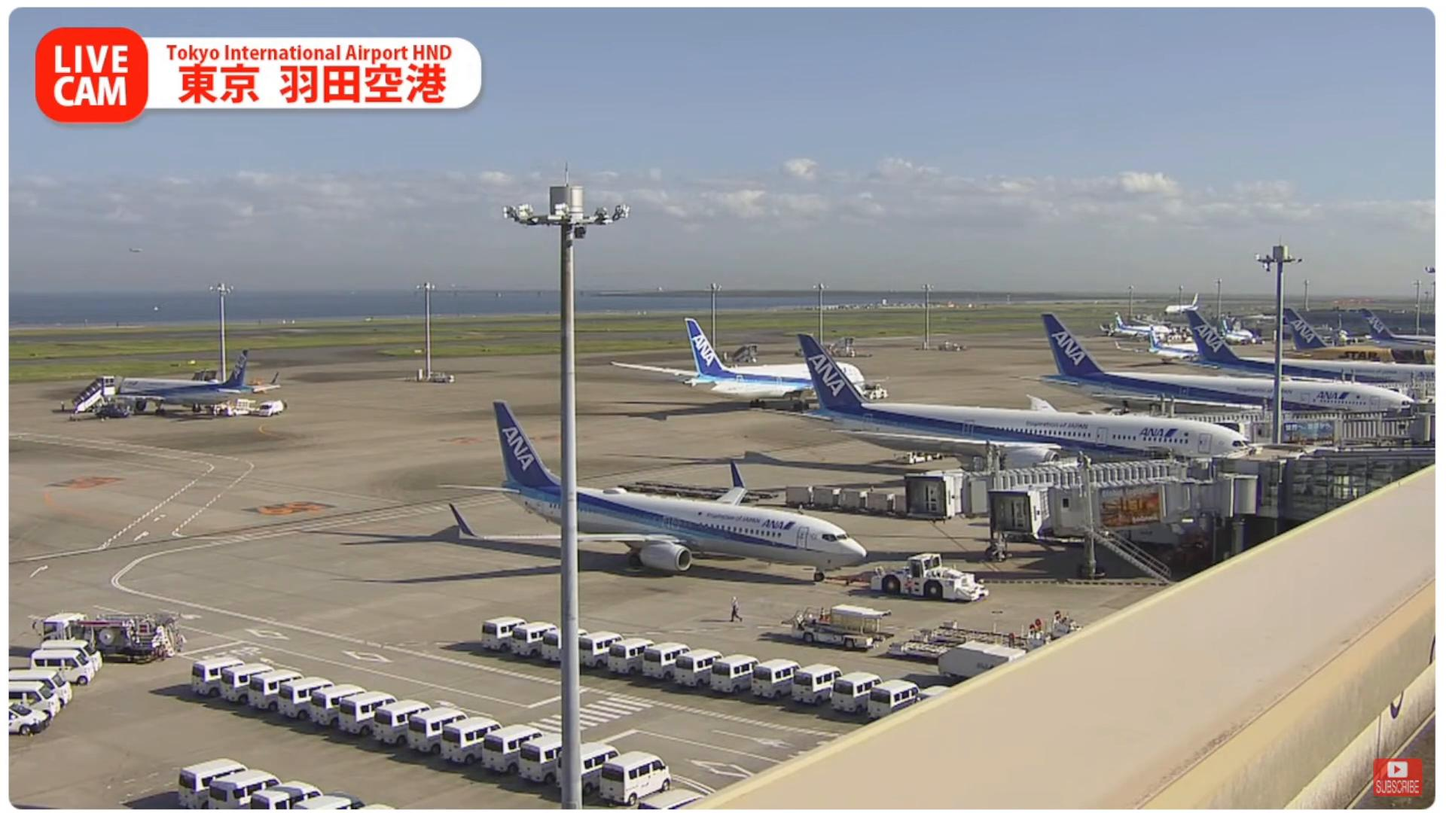APS: (871, 557, 989, 603)
Aerobridge: (904, 443, 1220, 528), (991, 451, 1256, 537)
Airplane: (438, 402, 868, 589)
Baggage truck: (937, 641, 1029, 678)
JCPL: (918, 616, 1075, 650), (890, 639, 953, 657)
Skyloader: (789, 603, 894, 653)
Window: (1290, 445, 1435, 519)
